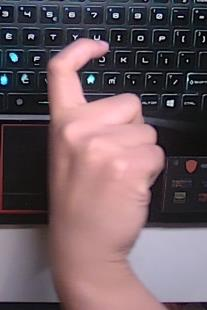anticlockwise: (40, 35, 167, 253)
